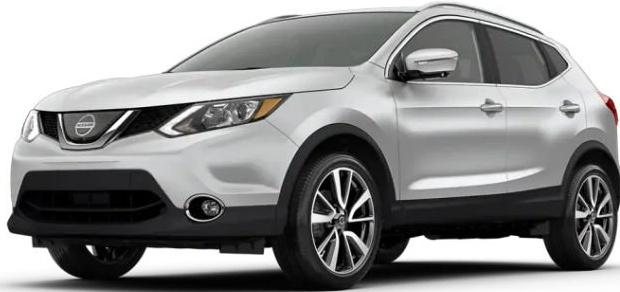SUV: (8, 4, 620, 288)
